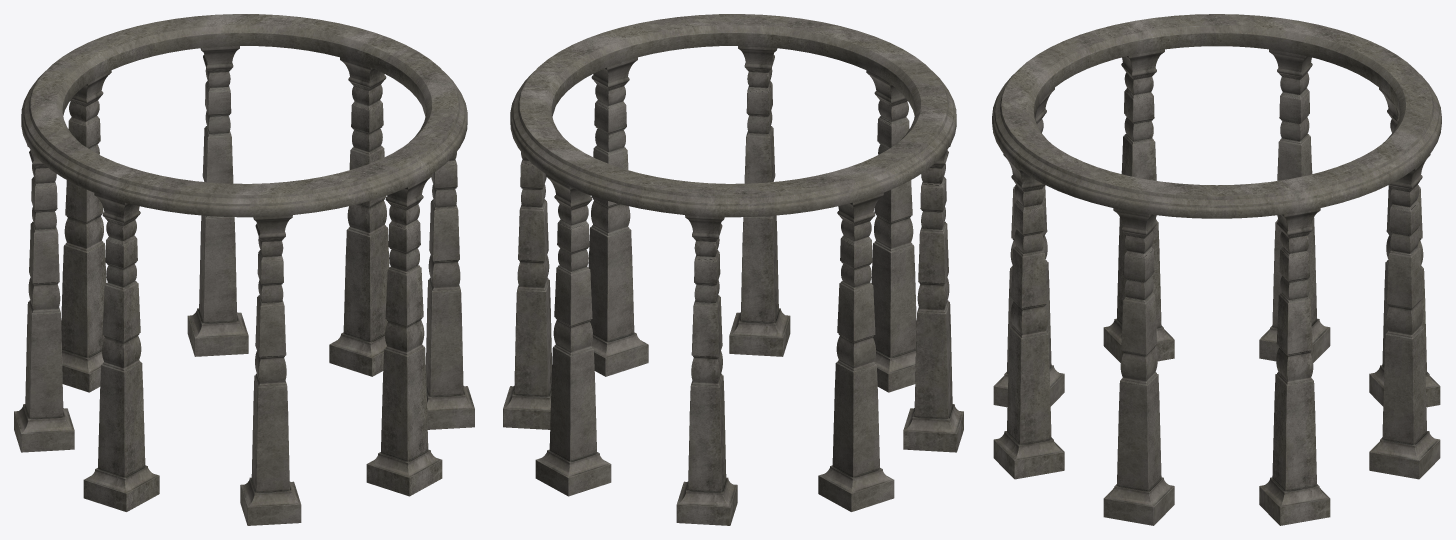
The model's file is mythical_stone_circle.glb.
The picture shows the model from 3 angles, left to right: view 1: azimuth 30°, elevation 25°; view 2: azimuth 150°, elevation 25°; view 3: azimuth 270°, elevation 25°; orthographic projection.
Parts seen in each view (by area): view 1: Steinkreis-mystisch_0; view 2: Steinkreis-mystisch_0; view 3: Steinkreis-mystisch_0.
Boxes of the visible parts, x1=… form: Steinkreis-mystisch_0: x1=14, y1=14, x2=474, y2=525; Steinkreis-mystisch_0: x1=503, y1=14, x2=963, y2=525; Steinkreis-mystisch_0: x1=992, y1=14, x2=1441, y2=525.
Bounding box in the file's own units: 7.98 × 6.39 × 7.98.
Materials: 1 (1 with a texture image).
